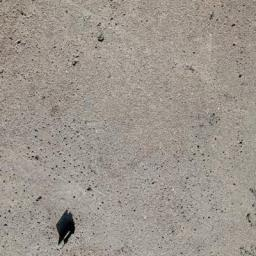FOD: (53, 207, 84, 247)
